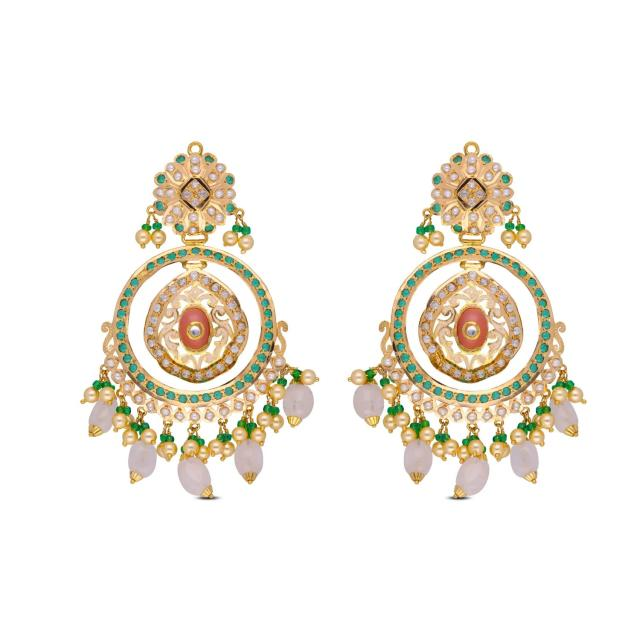missing gem: (433, 355, 442, 363), (484, 224, 492, 232), (140, 270, 147, 278)
